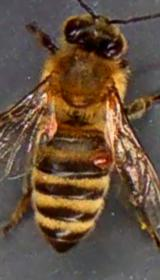varroa_mite: (85, 144, 118, 172)
